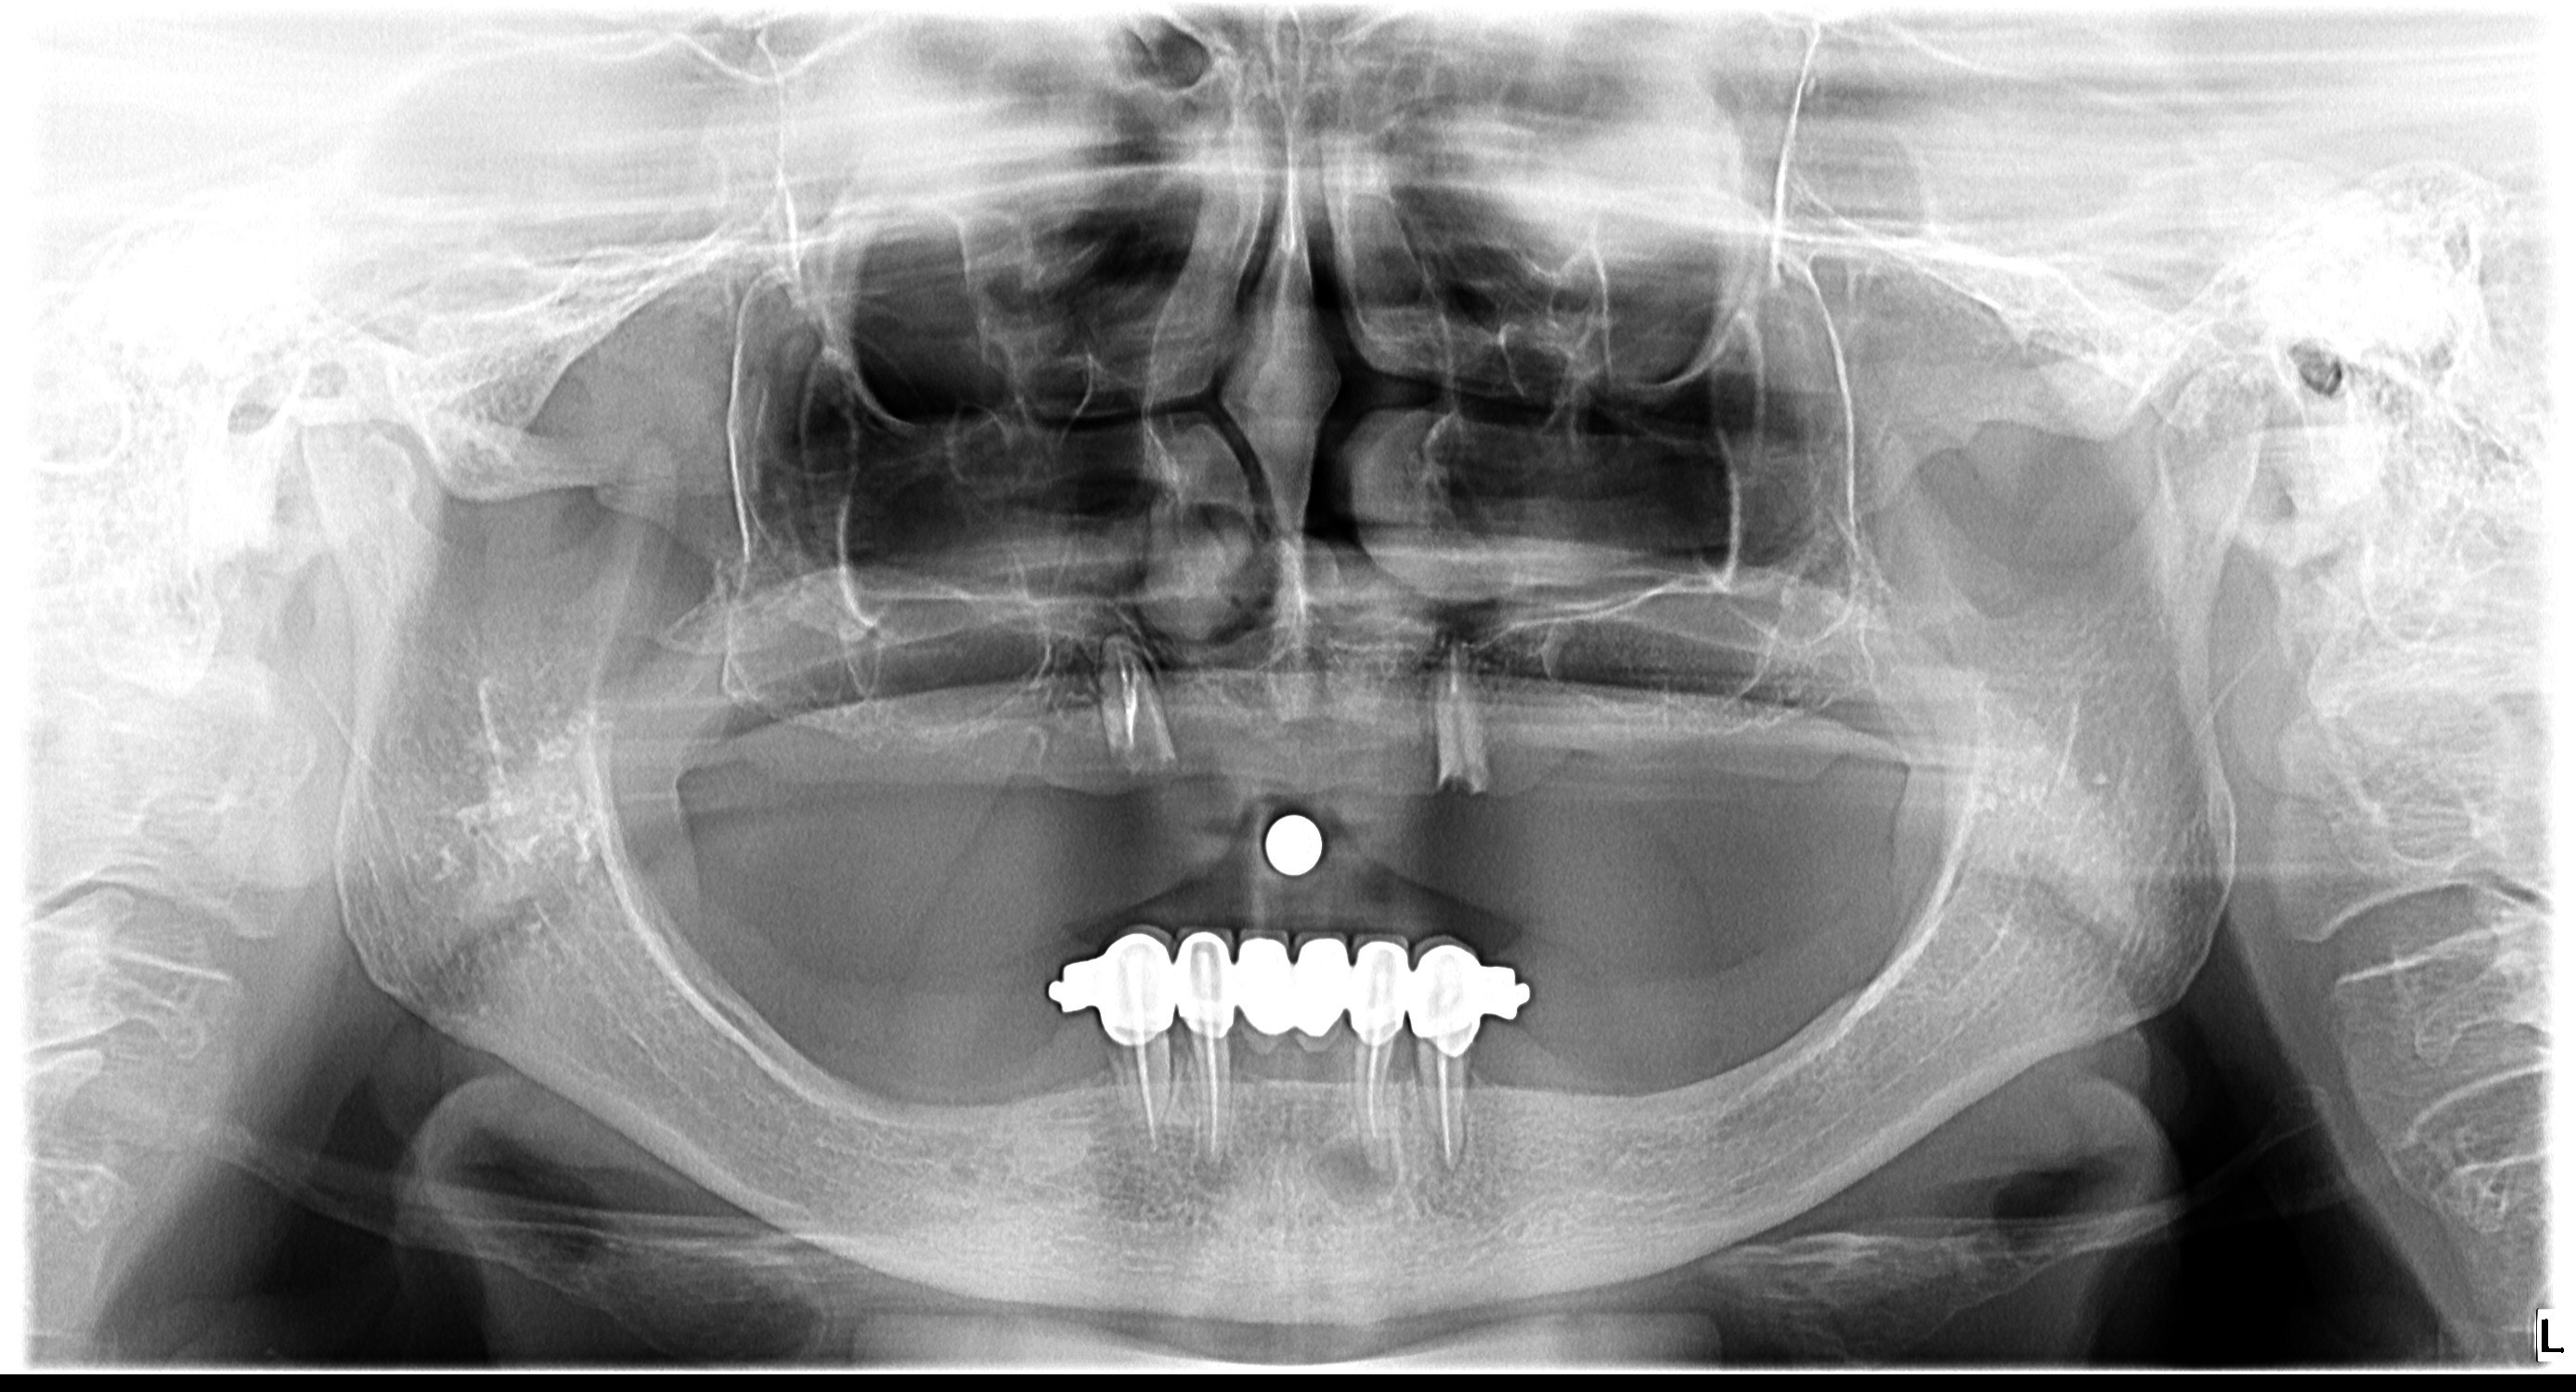API: (1293, 1128, 1404, 1227), (1180, 1142, 1247, 1207), (1427, 1126, 1476, 1191)
BON: (1153, 1020, 1201, 1097), (1392, 1034, 1430, 1119)
END: (1106, 1025, 1161, 1166), (1341, 1044, 1401, 1161), (1194, 1034, 1237, 1149), (1425, 1056, 1471, 1155)
PRR: (1035, 924, 1540, 1061)
ROT: (1067, 631, 1177, 799), (1415, 643, 1507, 801)
